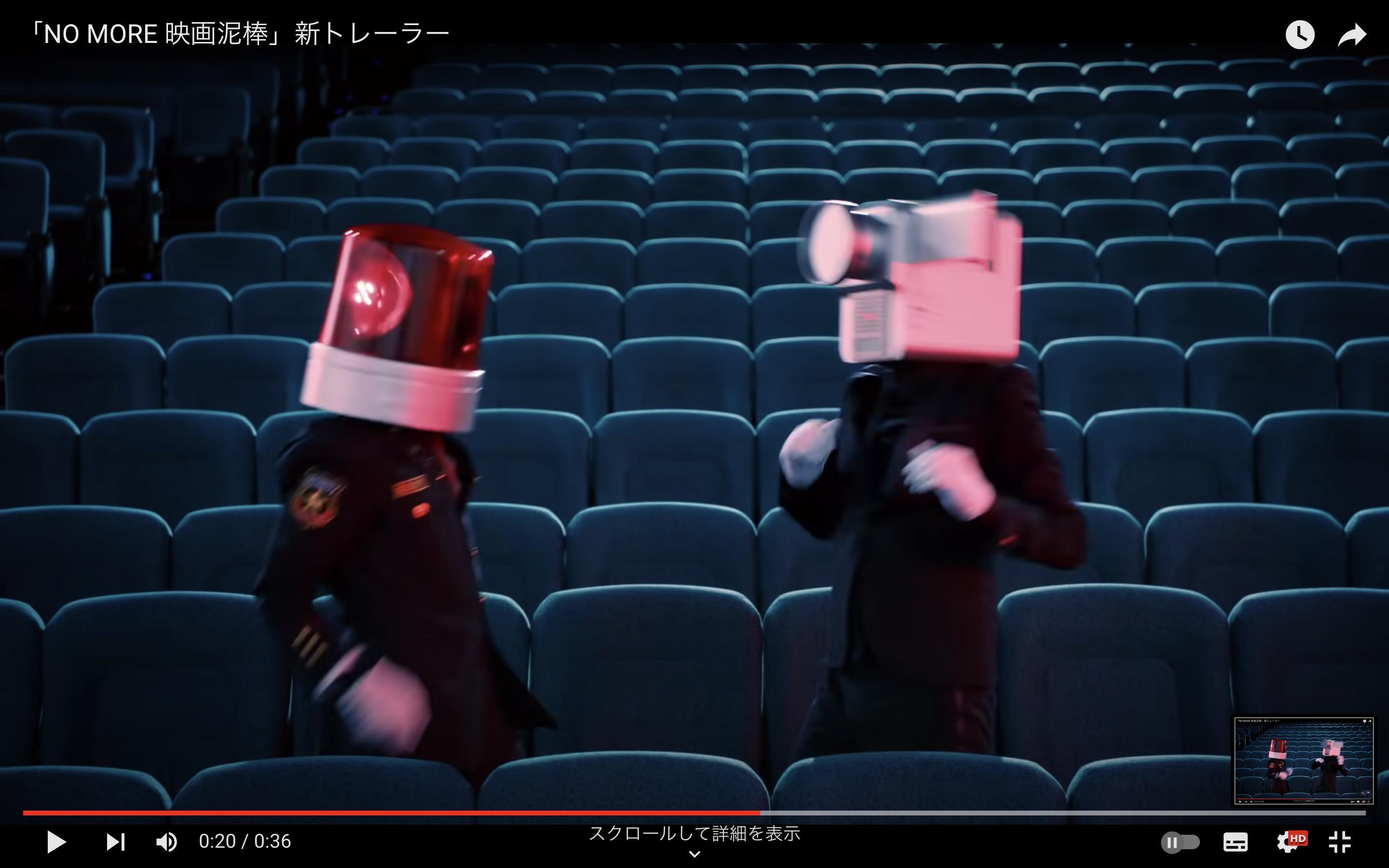no more kid: (801, 193, 1031, 373)
